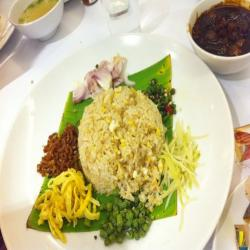rice: (78, 90, 165, 195)
